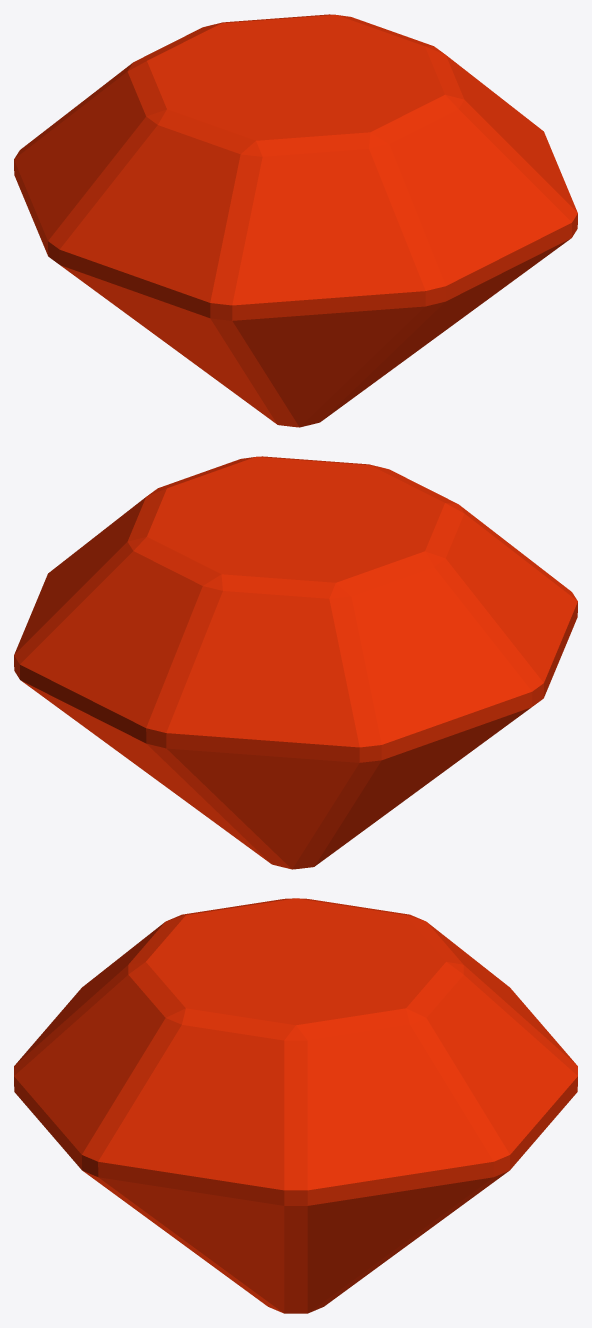
The model's file is Gem.fbx.
3 renders of one model, top to bottom at view 1: azimuth 30°, elevation 25°; view 2: azimuth 150°, elevation 25°; view 3: azimuth 270°, elevation 25°, orthographic.
Visible parts, largest first — view 1: Gem; view 2: Gem; view 3: Gem.
Boxes of the visible parts, box(x1,y1,x2,y2) form: Gem: box(14, 14, 577, 427); Gem: box(14, 456, 577, 869); Gem: box(14, 898, 577, 1313).
Size of the model in its own units: 38.54 by 26.07 by 38.54.
